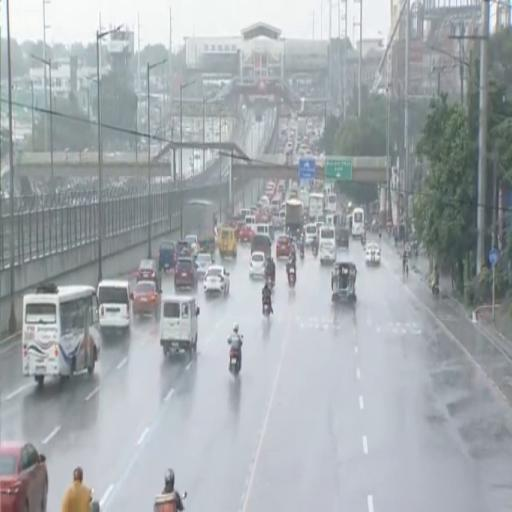bus: (22, 284, 100, 386), (308, 194, 323, 220), (352, 207, 364, 237), (326, 194, 336, 213)
car: (0, 442, 48, 511), (131, 281, 160, 317), (174, 258, 197, 290), (204, 266, 229, 295), (137, 260, 161, 290), (158, 241, 177, 271), (249, 251, 266, 278), (196, 253, 213, 278), (276, 235, 291, 259), (366, 243, 380, 265), (239, 224, 254, 243), (305, 223, 317, 246), (185, 235, 199, 254), (177, 240, 191, 258)
motorcycle: (154, 494, 177, 511), (228, 348, 240, 375), (229, 347, 240, 375), (90, 489, 100, 511), (288, 267, 296, 288), (266, 276, 274, 292), (263, 298, 270, 316), (432, 283, 439, 298), (312, 245, 318, 257), (360, 235, 366, 246), (300, 246, 304, 260)
tricycle: (332, 262, 356, 302)
truck: (182, 200, 217, 253), (285, 199, 303, 235)
